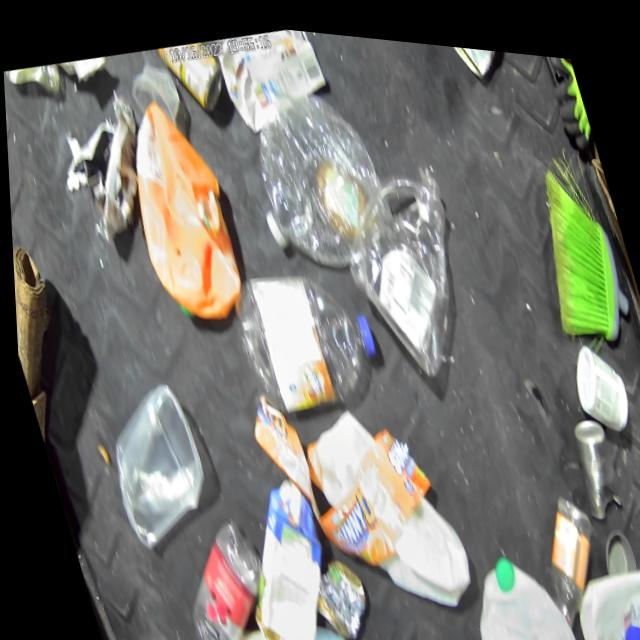can: (553, 393, 632, 515), (296, 538, 376, 640), (150, 29, 234, 121), (2, 56, 68, 106), (431, 35, 510, 72)
milk_jug: (289, 384, 476, 623), (443, 525, 578, 640), (556, 541, 640, 640)
non_white_jug: (99, 70, 258, 338)
plastic_bottle: (230, 73, 401, 283), (219, 243, 391, 435), (149, 500, 280, 640), (516, 473, 619, 640)
